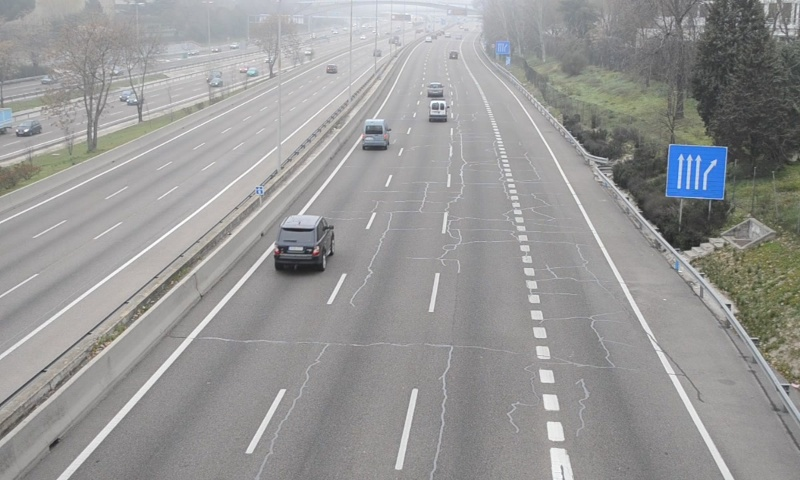car: (275, 216, 334, 267)
van: (362, 118, 388, 148), (427, 99, 448, 124)
